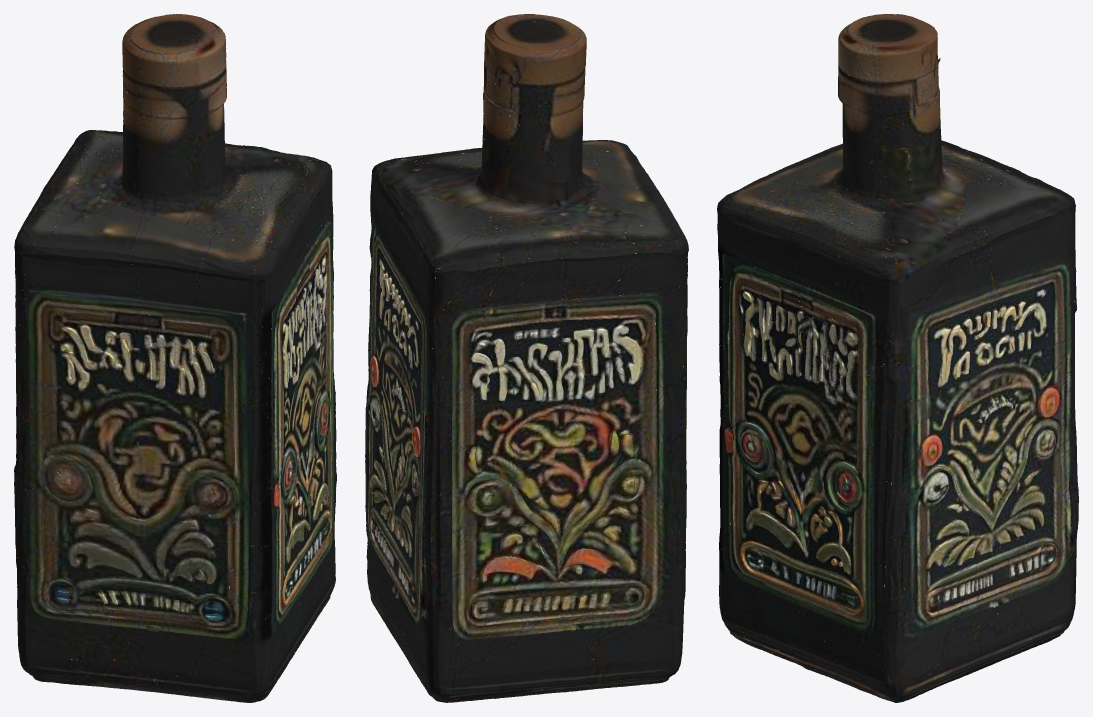
The model's file is bottle-v1-optimized.glb.
The picture shows the model from 3 angles, left to right: view 1: azimuth 30°, elevation 25°; view 2: azimuth 150°, elevation 25°; view 3: azimuth 270°, elevation 25°; orthographic projection.
Visible parts, largest first — view 1: tmp0dcr6uh4.obj; view 2: tmp0dcr6uh4.obj; view 3: tmp0dcr6uh4.obj.
Boxes of the visible parts, x1=… form: tmp0dcr6uh4.obj: x1=14, y1=14, x2=336, y2=702; tmp0dcr6uh4.obj: x1=365, y1=14, x2=688, y2=702; tmp0dcr6uh4.obj: x1=717, y1=14, x2=1078, y2=702.
Bounding box in the file's own units: 0.8679 × 1.62 × 0.8695.
Materials: 1 (1 with a texture image).
